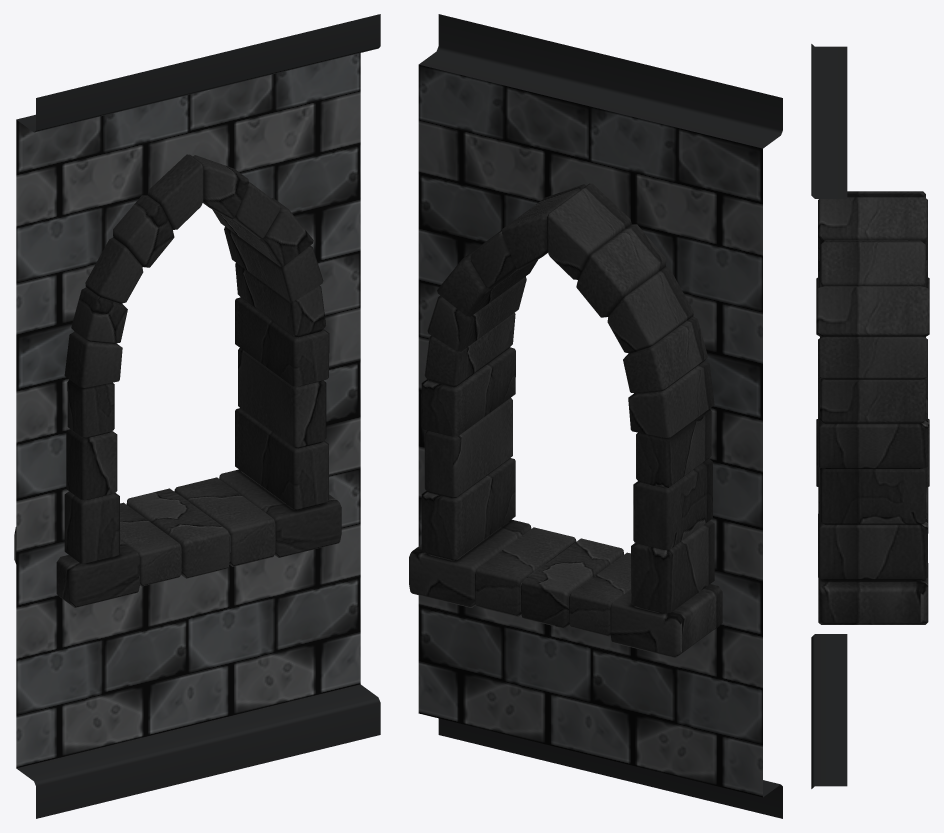
The model's file is M_WallWindow_Big.fbx.
3 renders of one model, left to right at view 1: azimuth 30°, elevation 25°; view 2: azimuth 150°, elevation 25°; view 3: azimuth 270°, elevation 25°, orthographic. The views are drawn at different scales.
Visible parts, largest first — view 1: Wall_Big3; view 2: Wall_Big3; view 3: Wall_Big3.
Part boxes in pixels (bbox=[...]): Wall_Big3: bbox=[14, 14, 380, 818]; Wall_Big3: bbox=[409, 14, 782, 818]; Wall_Big3: bbox=[811, 44, 929, 788].
Bounding box in the file's own units: 200 × 400 × 65.79.
